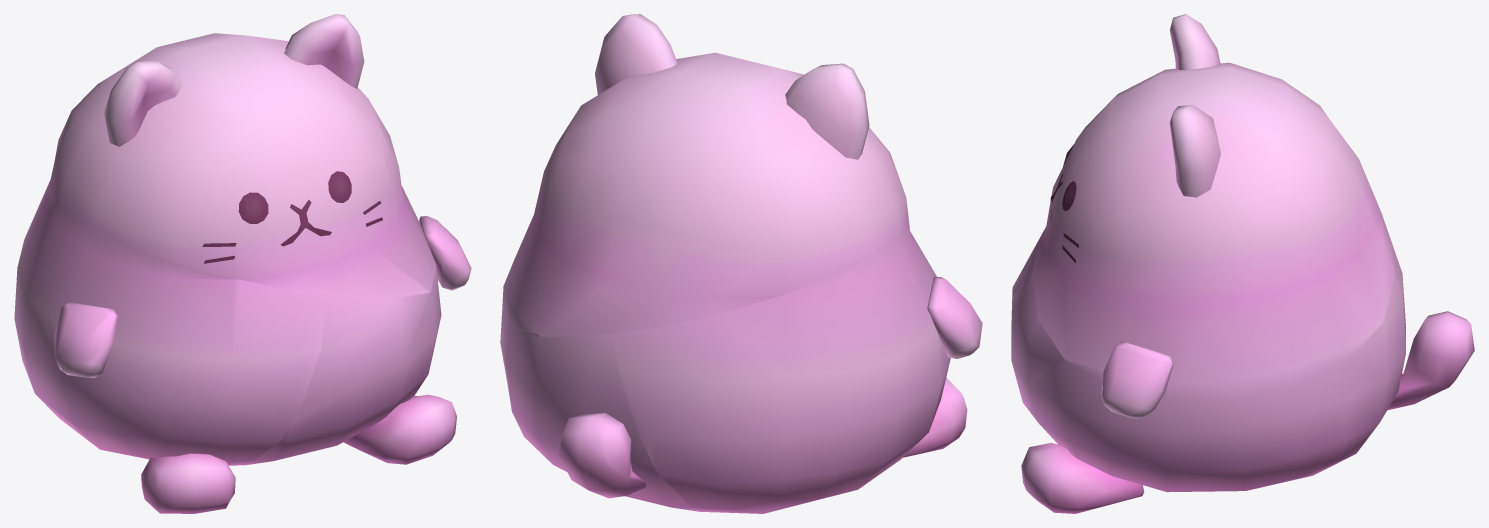
File: Cat Toy break.fbx
3 views of the same model, side by side, from view 1: azimuth 30°, elevation 25°; view 2: azimuth 150°, elevation 25°; view 3: azimuth 270°, elevation 25° (orthographic). The views are drawn at different scales.
Parts seen in each view (by area): view 1: Cat Toy.007, Cat Toy, Cat Toy.008, Cat Toy.001, Cat Toy.002, Cat Toy.003, Cat Toy.005, Cat Toy.006, Cat Toy.004; view 2: Cat Toy.007, Cat Toy, Cat Toy.008, Cat Toy.005, Cat Toy.010, Cat Toy.006, Cat Toy.003, Cat Toy.002; view 3: Cat Toy.007, Cat Toy.008, Cat Toy.001, Cat Toy.010, Cat Toy.004, Cat Toy.006, Cat Toy.005, Cat Toy.
Boxes of the visible parts, x1,y1,x2,y2 form: Cat Toy.007: (48,33,437,298); Cat Toy: (14,180,325,464); Cat Toy.008: (228,277,441,465); Cat Toy.001: (343,394,456,464); Cat Toy.002: (141,453,235,513); Cat Toy.003: (54,302,118,378); Cat Toy.005: (104,60,182,146); Cat Toy.006: (284,14,364,88); Cat Toy.004: (419,216,471,290); Cat Toy.007: (502,52,908,335); Cat Toy: (611,216,950,513); Cat Toy.008: (500,309,723,512); Cat Toy.005: (785,63,869,159); Cat Toy.010: (558,413,645,498); Cat Toy.006: (595,14,677,94); Cat Toy.003: (927,277,982,358); Cat Toy.002: (903,377,967,457); Cat Toy.007: (1032,62,1395,401); Cat Toy.008: (1011,266,1405,492); Cat Toy.001: (1021,443,1144,513); Cat Toy.010: (1387,311,1474,410); Cat Toy.004: (1101,341,1173,418); Cat Toy.006: (1169,104,1220,197); Cat Toy.005: (1169,14,1220,69); Cat Toy: (1011,238,1405,328).
Size of the model in its own units: 28.76 by 26.7 by 28.92.
